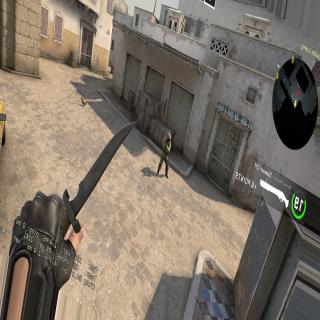CT-Body: (158, 132, 172, 174)
CT-Head: (166, 133, 172, 141)
